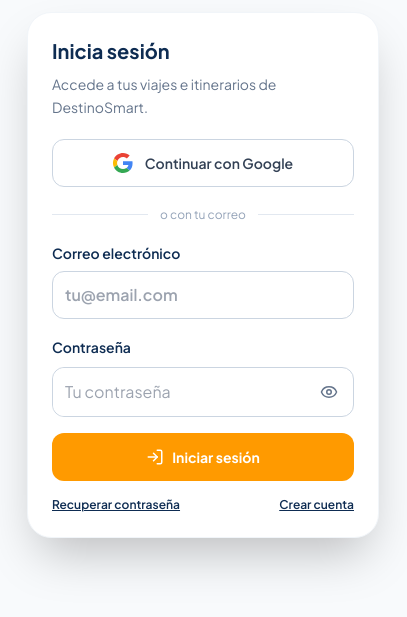
Test case: LoginForm › maneja una excepción del servicio y libera el estado de envío
Type "user@example.com" into the field labelled "Correo electrónico" at (203, 295), box [52, 271, 354, 319]
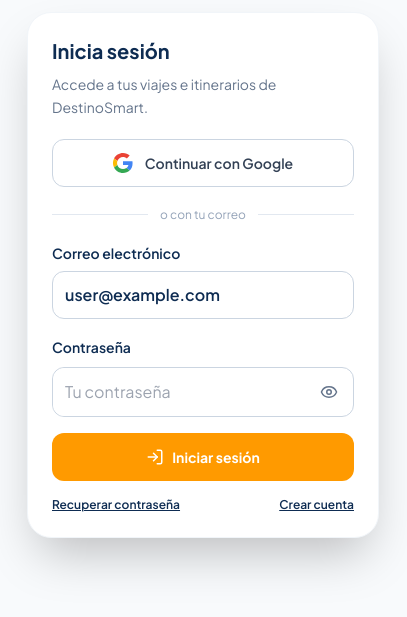
Type "secret-password" into the password field labelled "Contraseña" at (181, 392), box [53, 368, 309, 416]
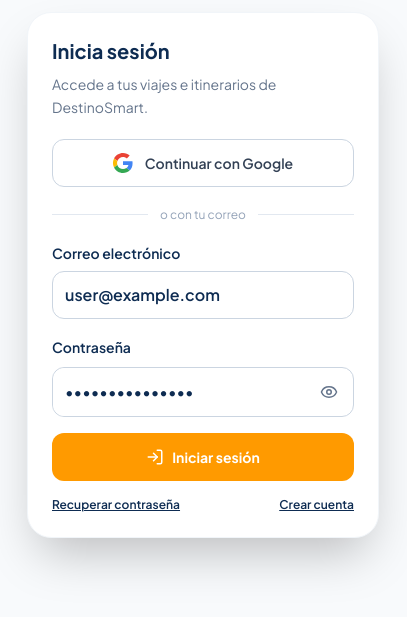
Click the button "Iniciar sesión" at (203, 457), box [52, 433, 354, 481]
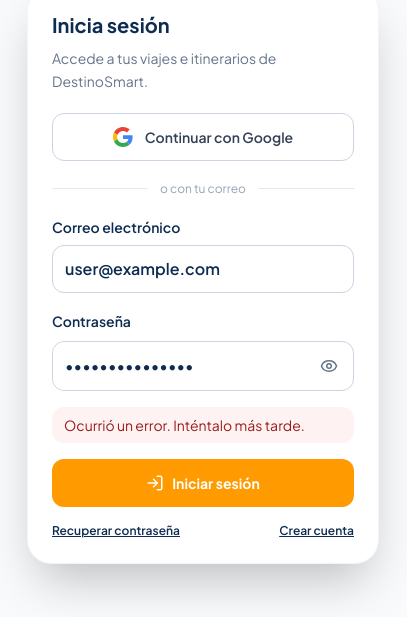
Check: the button "Iniciar sesión" is enabled, box [52, 459, 354, 507]
Check: the message shows "Ocurrió un error", box [64, 416, 305, 434]
